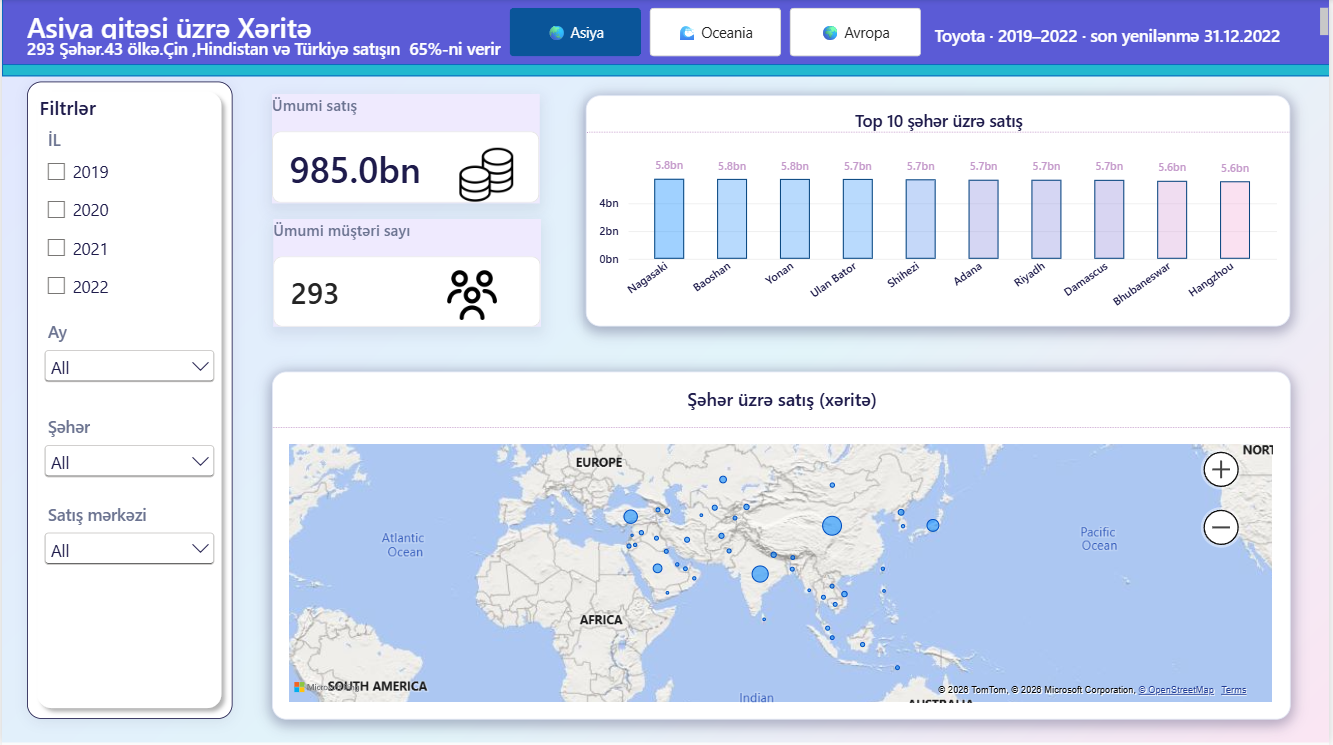

Layout of this report page (visuals, bound fields, positions):
{"tool":"powerbi","page":{"name":"🌏 Asiya","canvas":[1280,720],"ordinal":0},"visuals":[{"type":"shape","box":[0,0,1898,64.9],"z":0,"group":"g1"},{"type":"shape","box":[24.3,80,198,615],"z":0},{"type":"group","id":"g1","title":"Group 1","box":[0,0,1897.2,73.6],"z":1000},{"type":"shape","box":[0,62.2,1898,11.9],"z":1000,"group":"g1"},{"type":"textbox","box":[24.3,8.6,1255.7,30],"z":2000},{"type":"textbox","box":[24.3,35.7,1255.7,22.9],"z":3000},{"type":"textbox","box":[900,24,360,24],"z":4000},{"type":"textbox","box":[35.7,91.4,128.6,32.9],"z":5000},{"type":"slicer","fields":{"Values":["Calendar.il"]},"box":[35.7,124.3,110,174],"z":6000},{"type":"slicer","fields":{"Values":["Calendar.ay"]},"box":[35.7,310,174,60],"z":7000},{"type":"slicer","fields":{"Values":["Toyota_city.Şəhər"]},"box":[35.7,401.4,174,60],"z":8000},{"type":"slicer","fields":{"Values":["Toyota_sku.Satış mərkəzi"]},"box":[35.7,485.7,174,60],"z":9000},{"type":"cardVisual","title":"Ümumi satış","fields":{"Data":["Dax cədvəli.Satış cəmi"]},"box":[260,91.4,258.6,105.7],"z":14000},{"type":"cardVisual","title":"Ümumi müştəri sayı","fields":{"Data":["Dax cədvəli.Ümumi müştəri sayı"]},"box":[262,212,258.6,104.3],"z":15000},{"type":"map","title":"Şəhər üzrə satış (xəritə)","fields":{"Category":["Toyota_city.Ölkə","Toyota_city.Şəhər"],"Size":["Dax cədvəli.Satış cəmi"]},"box":[260,360,982.9,335.7],"z":16000},{"type":"clusteredColumnChart","title":"Top 10 şəhər üzrə satış","fields":{"Category":["Toyota_city.Şəhər"],"Y":["Dax cədvəli.Satış cəmi"]},"box":[562.9,92.9,680,222.9],"z":17000},{"type":"image","box":[418,144,100,52],"z":18002},{"type":"image","box":[390,262,128,48],"z":18003},{"type":"pageNavigator","box":[490,8.6,397.1,47.1],"z":30000}]}

Visuals, with their boxes in screenshot pixels (x1, y1, x2, y2), scaled from the page's 1280x720 canvas onto the 1333x745 screenshot:
shape: box(0, 0, 1332, 67)
shape: box(25, 83, 232, 719)
"Group 1" group: box(0, 0, 1332, 76)
shape: box(0, 64, 1332, 77)
textbox: box(25, 9, 1332, 40)
textbox: box(25, 37, 1332, 61)
textbox: box(937, 25, 1312, 50)
textbox: box(37, 95, 171, 129)
slicer - Calendar.il: box(37, 129, 152, 309)
slicer - Calendar.ay: box(37, 321, 218, 383)
slicer - Toyota_city.Şəhər: box(37, 415, 218, 477)
slicer - Toyota_sku.Satış mərkəzi: box(37, 503, 218, 565)
"Ümumi satış" cardVisual: box(271, 95, 540, 204)
"Ümumi müştəri sayı" cardVisual: box(273, 219, 542, 327)
"Şəhər üzrə satış (xəritə)" map: box(271, 373, 1294, 720)
"Top 10 şəhər üzrə satış" clusteredColumnChart: box(586, 96, 1294, 327)
image: box(435, 149, 539, 203)
image: box(406, 271, 539, 321)
pageNavigator: box(510, 9, 924, 58)
